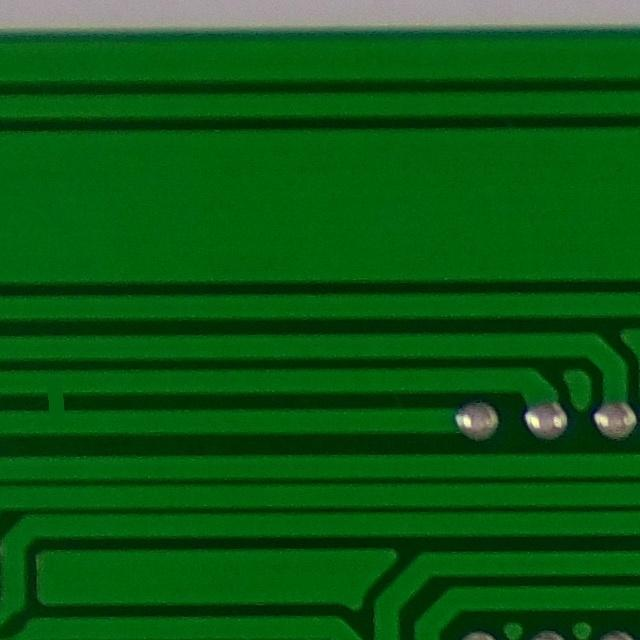short: (24, 364, 85, 436)
